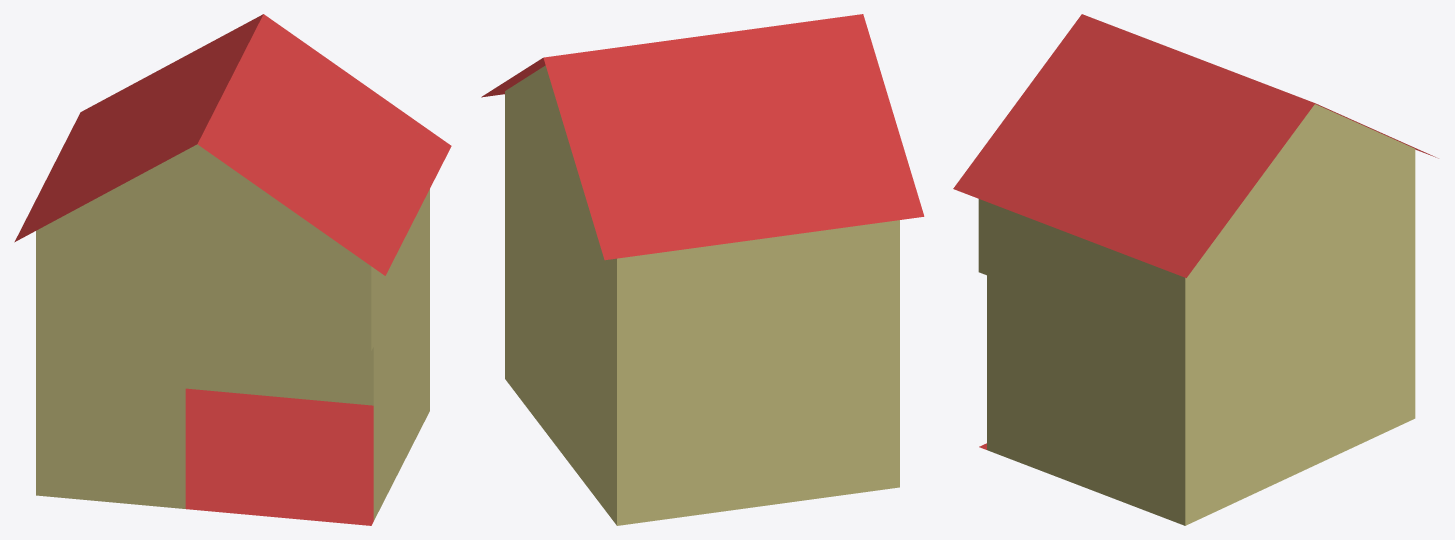
3 renders of one model, left to right at view 1: azimuth 30°, elevation 25°; view 2: azimuth 150°, elevation 25°; view 3: azimuth 270°, elevation 25°, orthographic. The views are drawn at different scales.
Size of the model in its own units: 13.53 by 13.4 by 11.32.
